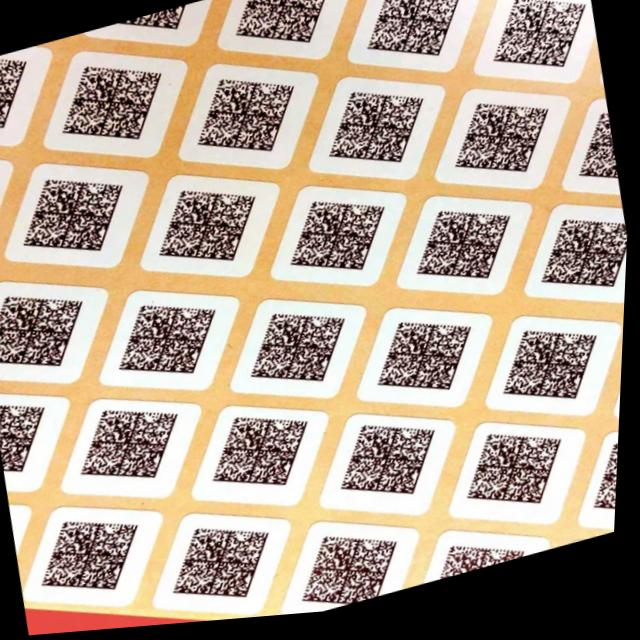datamatrix: (185, 64, 311, 177), (12, 163, 139, 275), (52, 50, 177, 163), (443, 92, 567, 202), (317, 80, 439, 190), (165, 513, 287, 623), (204, 403, 326, 512), (460, 424, 581, 533), (74, 393, 196, 501), (150, 176, 270, 285), (36, 505, 157, 613), (111, 291, 233, 398), (333, 414, 452, 523), (281, 188, 400, 297), (370, 310, 489, 418), (243, 300, 362, 408), (496, 322, 616, 429), (407, 201, 528, 307), (297, 523, 416, 621), (481, 1, 601, 97), (1, 276, 101, 387), (532, 215, 632, 318), (355, 1, 475, 84), (227, 1, 342, 68), (1, 391, 64, 480), (568, 121, 626, 211), (439, 537, 535, 590), (100, 10, 191, 53), (1, 49, 40, 139), (1, 164, 4, 233)
